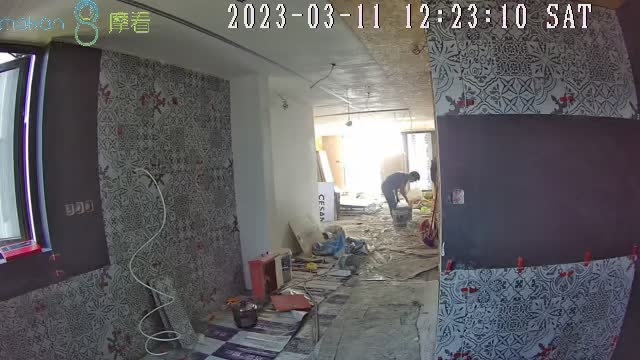people: (381, 171, 420, 221)
window: (343, 124, 406, 182)
